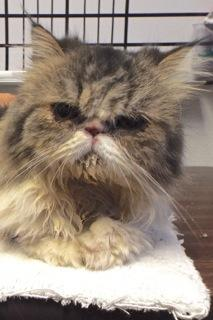persian: (12, 13, 202, 204)
